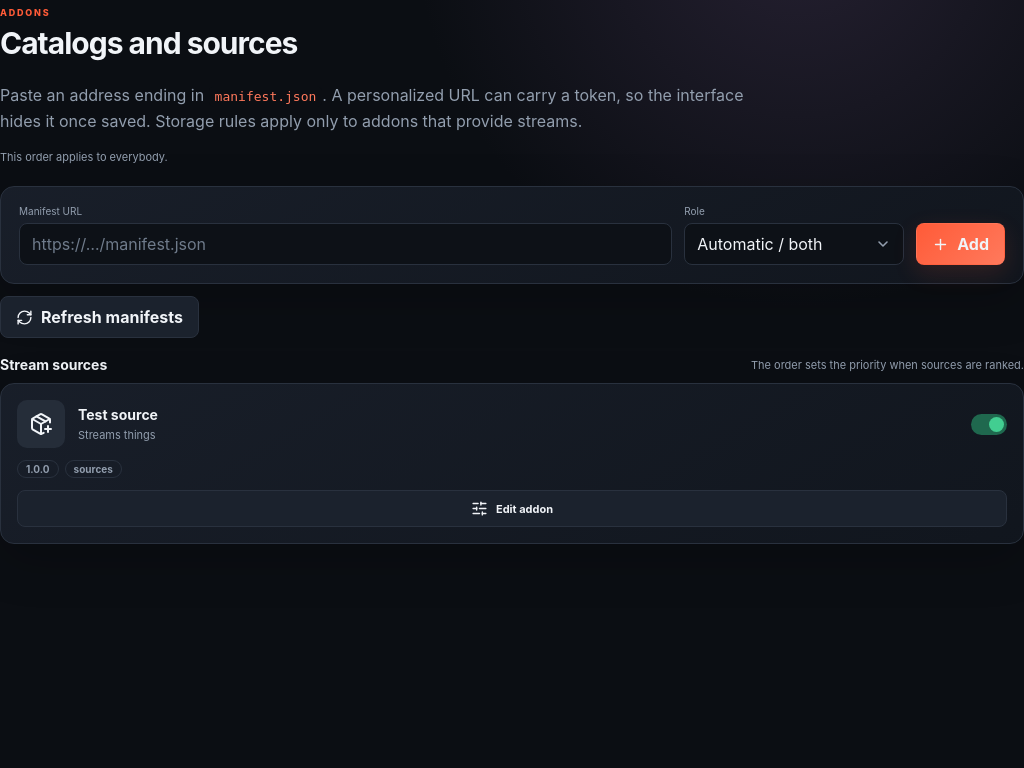
Test: the dialog fetches the real address, which the list hides
Click the button "Edit addon" at [512, 509], box [17,490,1007,527]
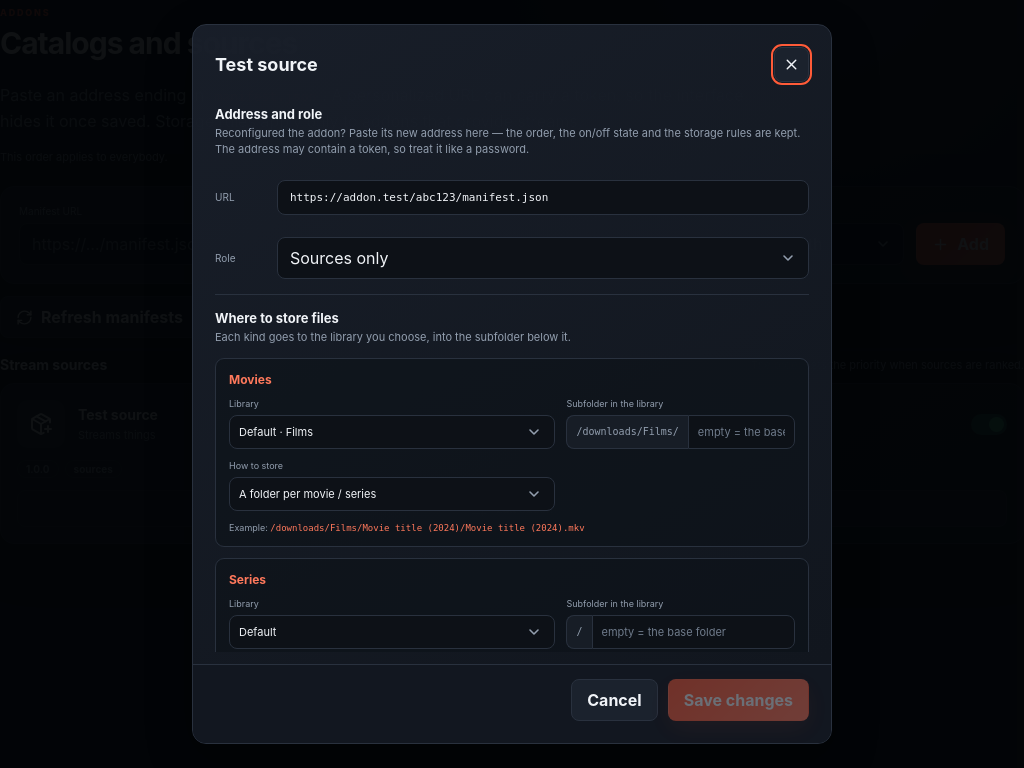
Now the field labelled "URL" holds "https://addon.test/abc123/manifest.json", box [277,180,809,215]
